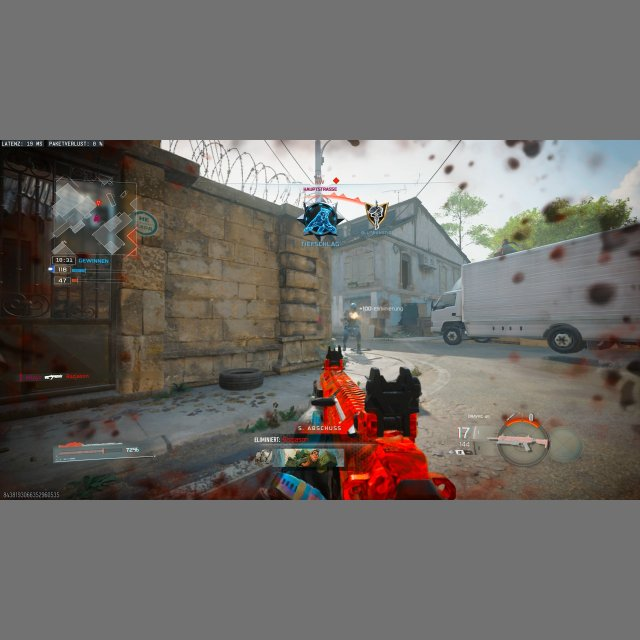head: (324, 345, 345, 371)
player: (340, 308, 362, 352)
